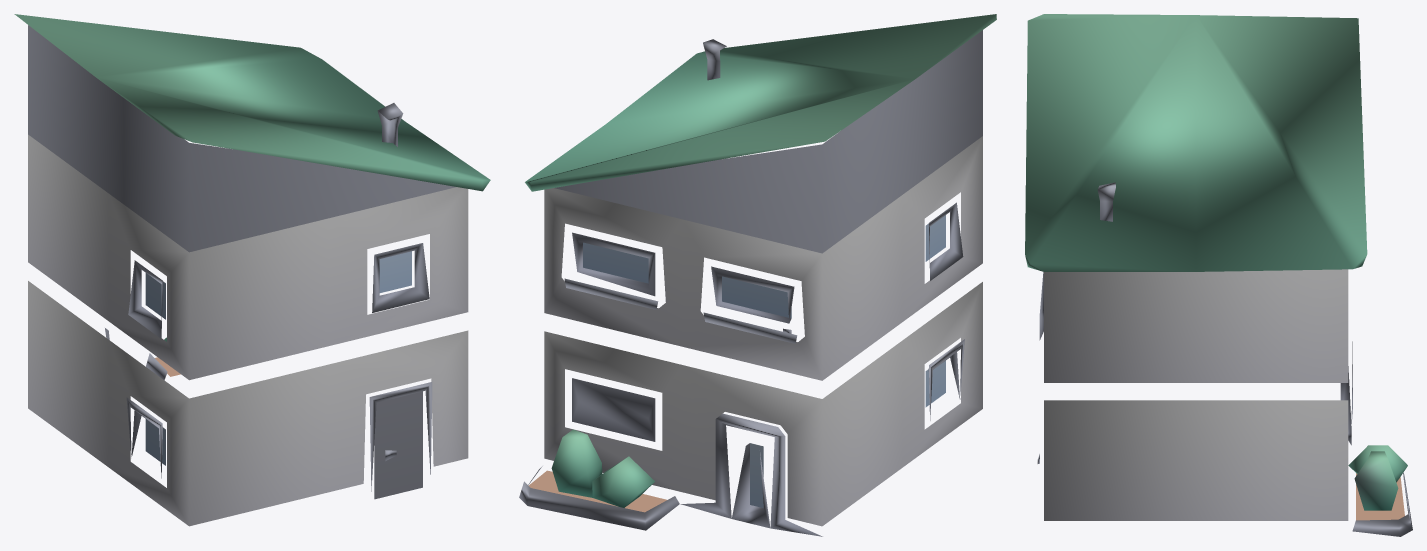
3 views of the same model, side by side, from view 1: azimuth 30°, elevation 25°; view 2: azimuth 150°, elevation 25°; view 3: azimuth 270°, elevation 25° (orthographic). The views are drawn at different scales.
Bounding box in the file's own units: 7.14 × 9.03 × 8.16.
